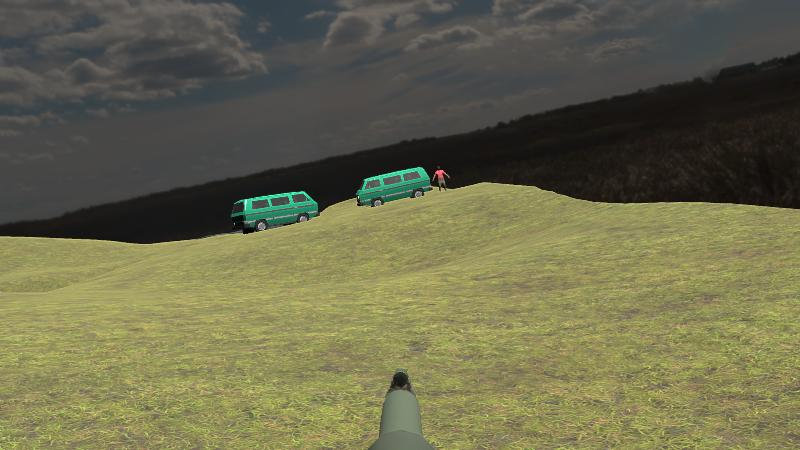Human: (433, 164, 450, 195)
car: (230, 191, 319, 234), (356, 167, 431, 208)
